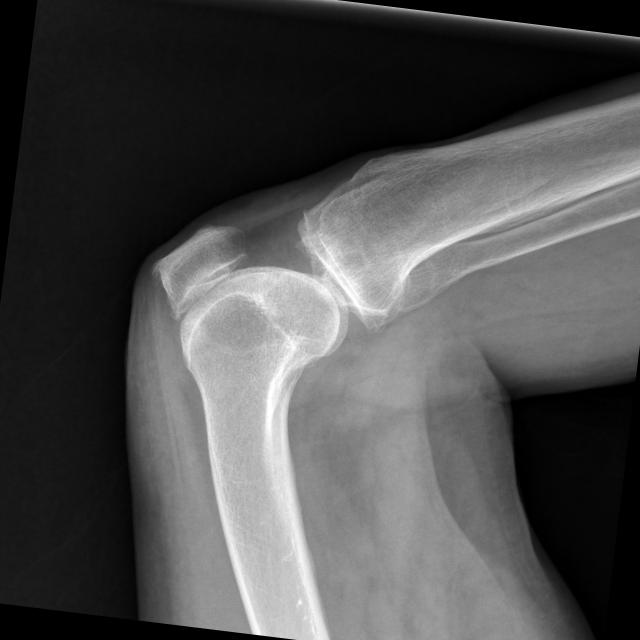Knee: (140, 170, 408, 407)
